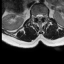CCS_normal: (38, 11, 40, 22)
LFS_normal: (43, 11, 45, 20)
LLS_normal: (40, 11, 43, 20)
RFS_normal: (33, 12, 36, 20)
RLS_normal: (36, 12, 38, 20)
